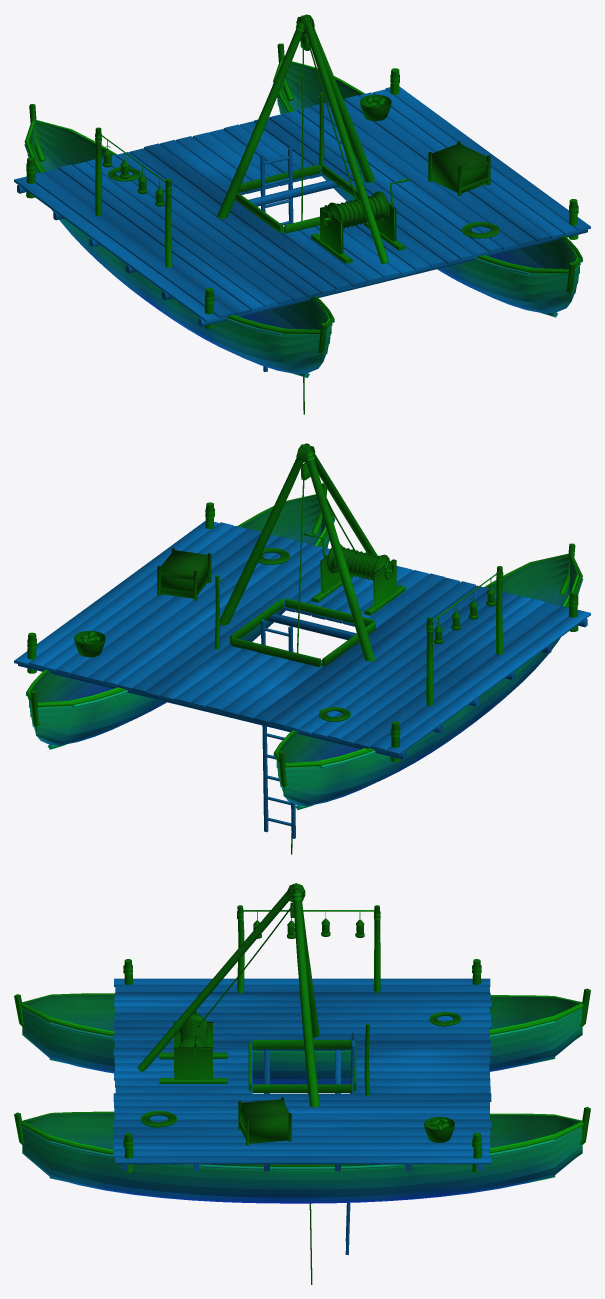
File: dive_raft.glb
3 renders of one model, top to bottom at view 1: azimuth 30°, elevation 25°; view 2: azimuth 150°, elevation 25°; view 3: azimuth 270°, elevation 25°, orthographic. The views are drawn at different scales.
Visible parts, largest first — view 1: dive_raft; view 2: dive_raft; view 3: dive_raft.
Part boxes in pixels (x1,y1,x2,y2): dive_raft: [14, 14, 590, 414]; dive_raft: [14, 443, 590, 854]; dive_raft: [14, 883, 590, 1284].
Size of what is drawn, in the model's own units: 7 by 7.04 by 9.27.
